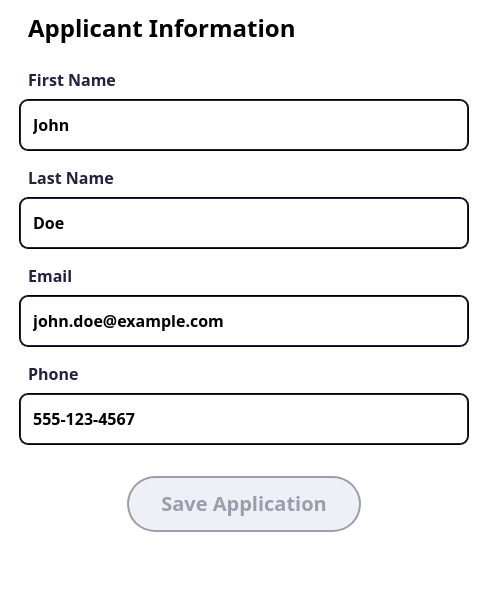
ApplicationForm › Form Submission › shows success message after successful submission
Replace the text in the field labelled "First Name" with "Updated Name" at (244, 125), box 20,100 -> 468,150
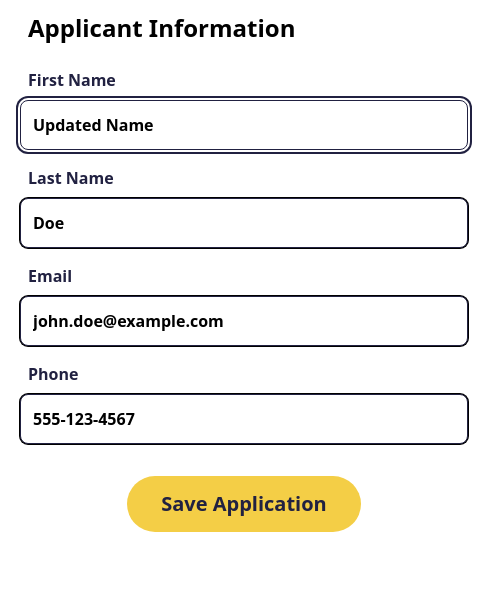
Click the button "Save Application".
click(244, 504)  # box 127,476 -> 361,532
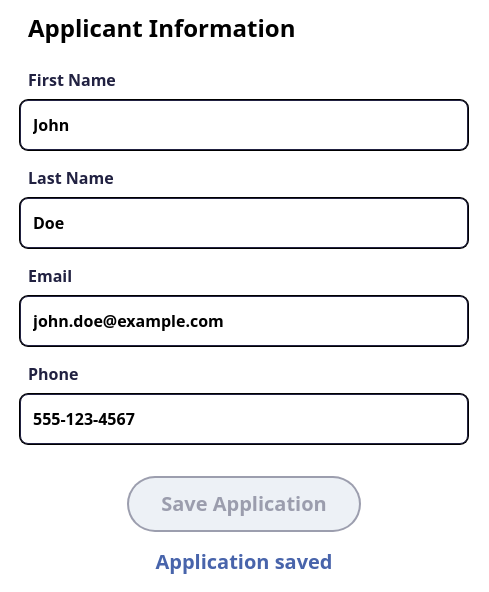
Result: the text "Application saved" is shown at 156,548 -> 333,575
